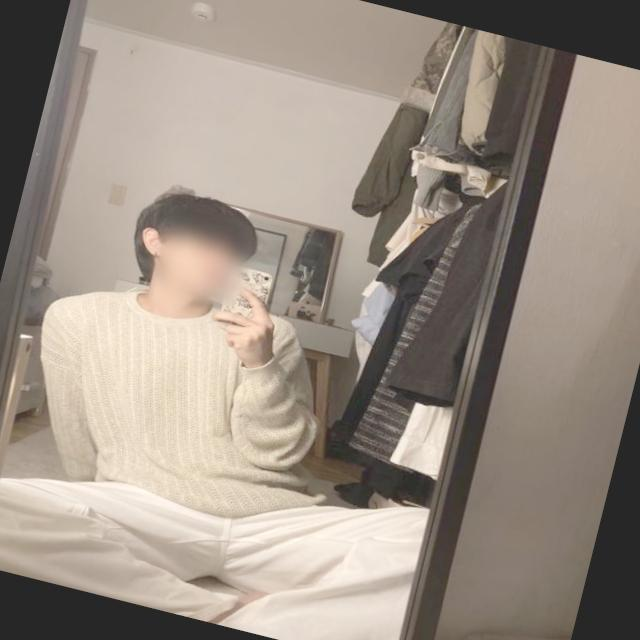cottonpants: (0, 408, 428, 640)
sweater: (6, 258, 365, 540)
